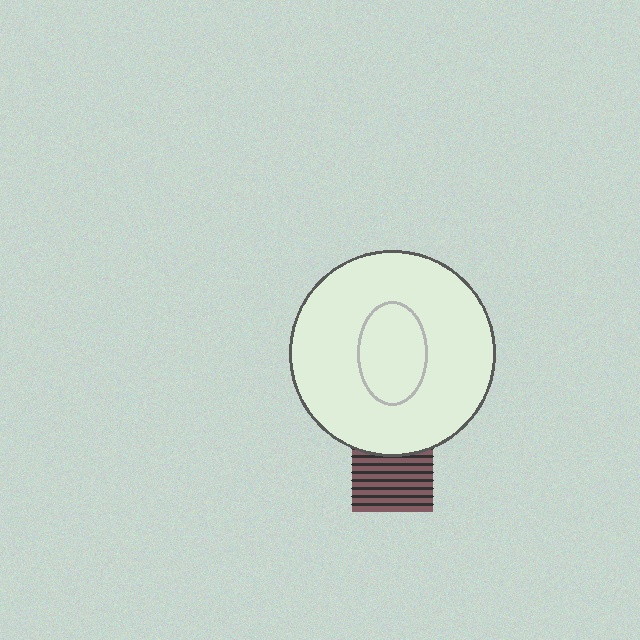bulb: (285, 246, 499, 516)
